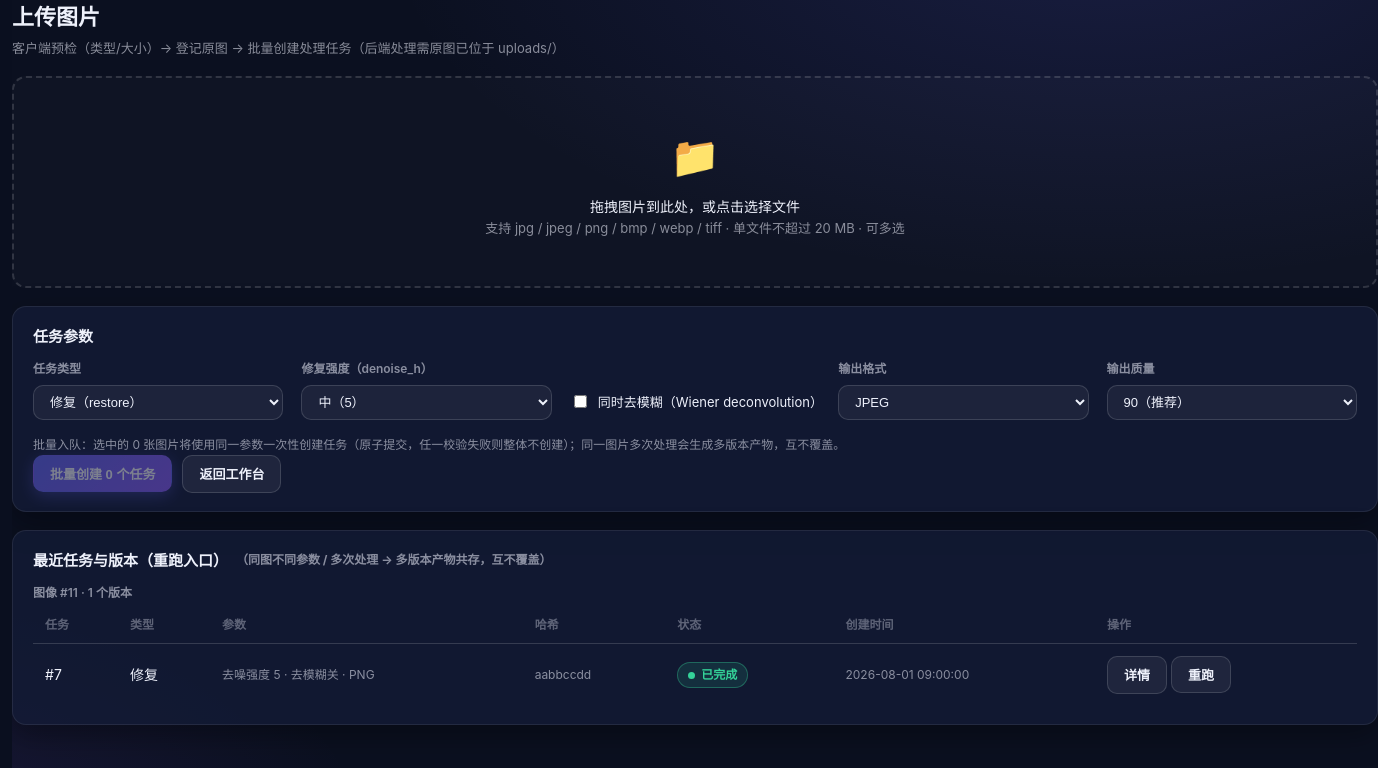
it: UploadView D7 › groups recent tasks by image and shows rerun entry for terminal tasks
Expected: the element with test id "version-group-11" is shown, [33, 584, 1357, 706]
Expected: the row with test id "recent-task-7" is shown, [33, 644, 1357, 706]
Click the button with test id "rerun-7" at [1201, 675], box [1171, 656, 1231, 693]
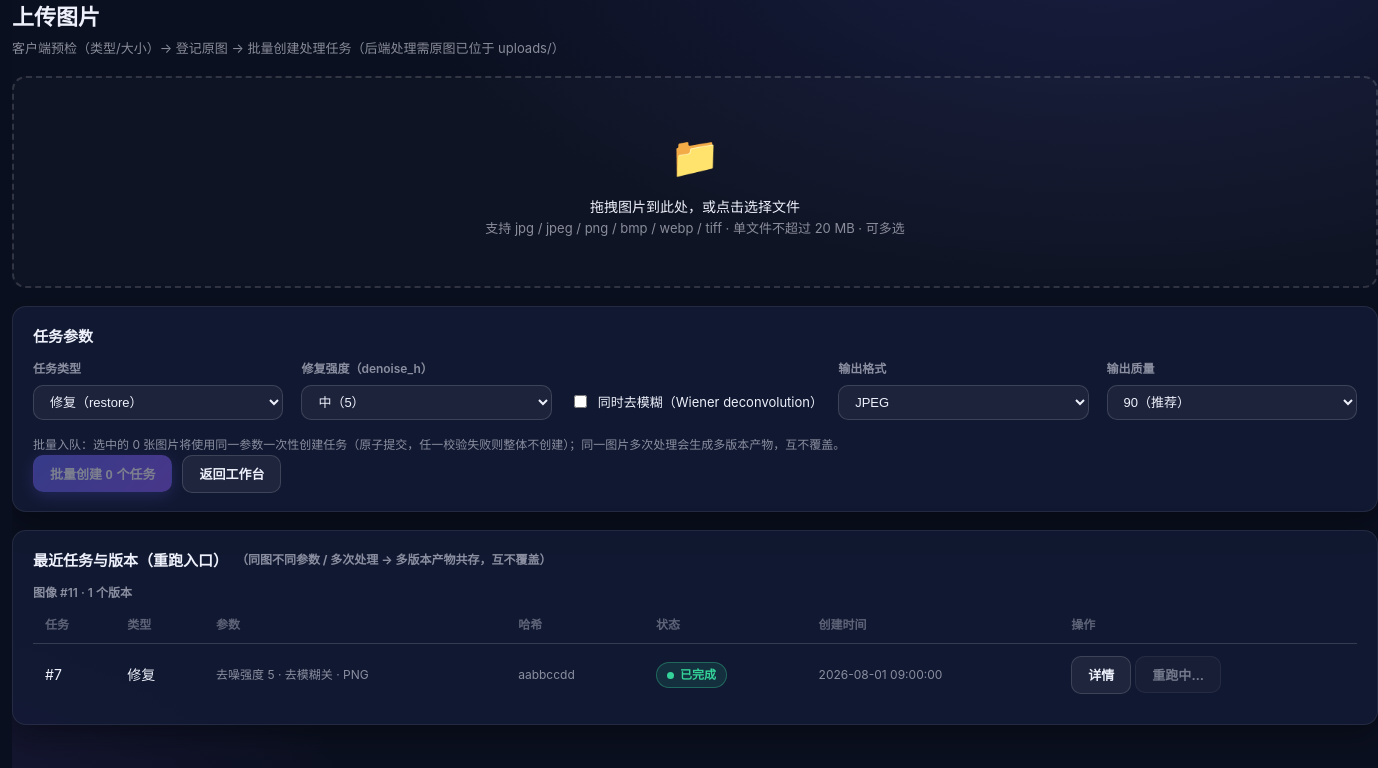
Expected: the button with test id "rerun-7" is disabled, [1135, 656, 1221, 693]
